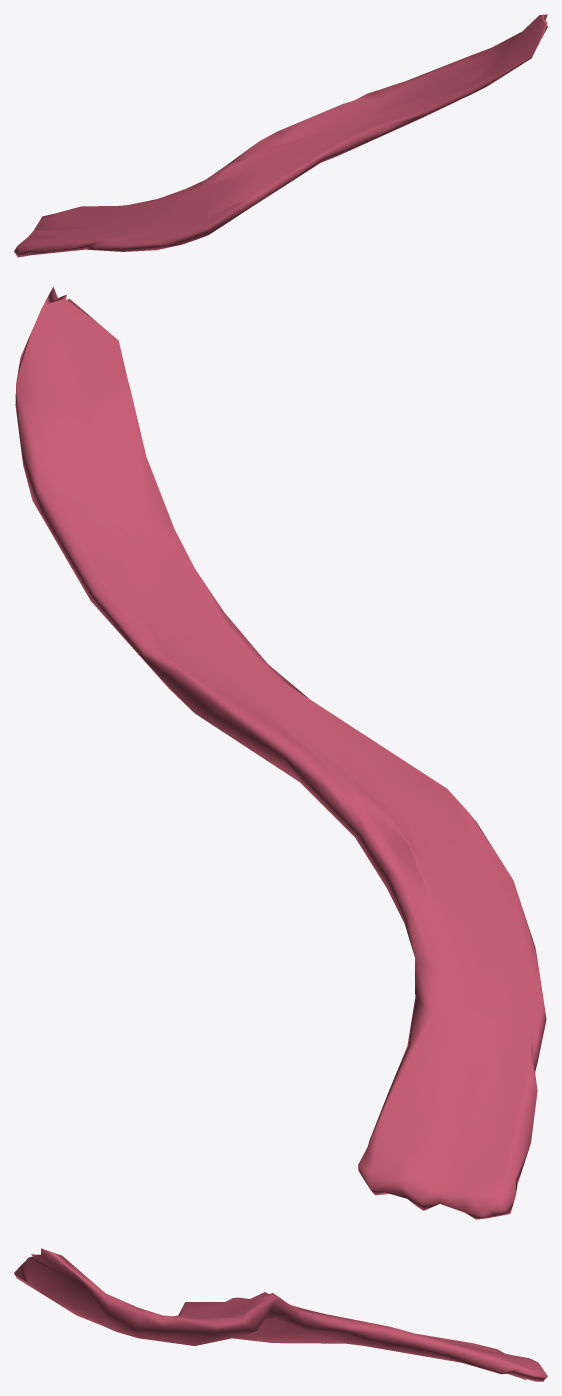
3 renders of one model, top to bottom at view 1: azimuth 30°, elevation 25°; view 2: azimuth 150°, elevation 25°; view 3: azimuth 270°, elevation 25°, orthographic. The views are drawn at different scales.
Parts seen in each view (by area): view 1: 左侧颧小肌; view 2: 左侧颧小肌; view 3: 左侧颧小肌.
Boxes of the visible parts, x1=… form: 左侧颧小肌: x1=14, y1=14, x2=547, y2=257; 左侧颧小肌: x1=15, y1=287, x2=546, y2=1219; 左侧颧小肌: x1=14, y1=1248, x2=547, y2=1381.
Bounding box in the file's own units: 0.0554 × 0.0363 × 0.0451.
